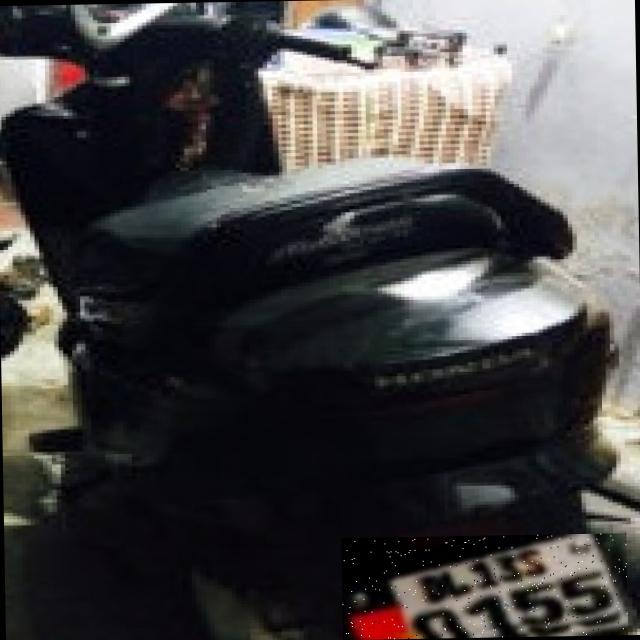Plate: (342, 534, 629, 640)
